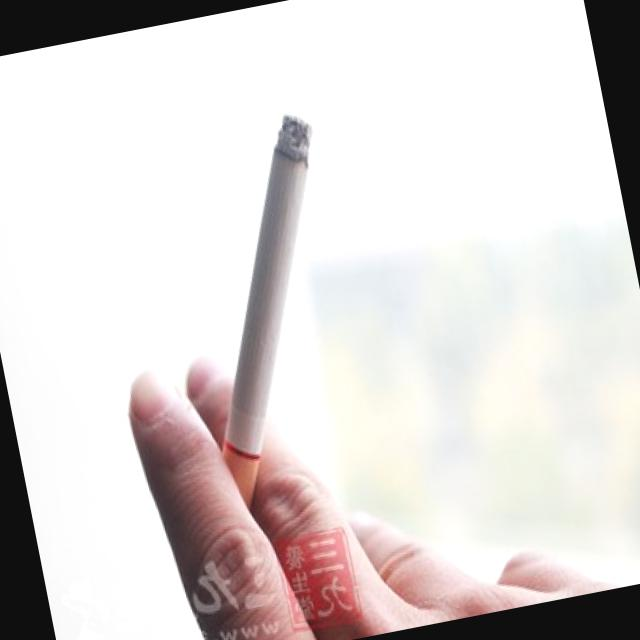smoke: (138, 110, 390, 535)
